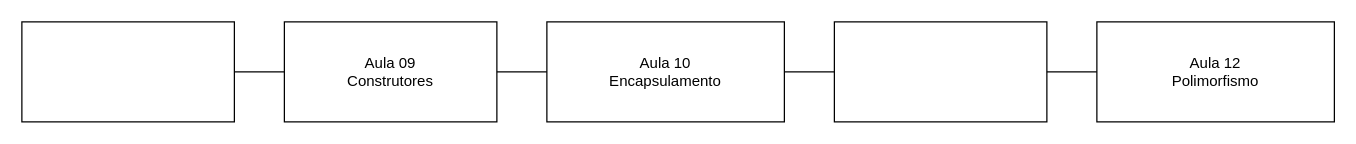
The diagram is 1356 pixels wide and 144 high, and some of its shapes have lost their labels. Each missing label, with the centre of its shape:
Aula 08 Classe e objeto: [127,71]
Aula 11 Herança: [940,71]
